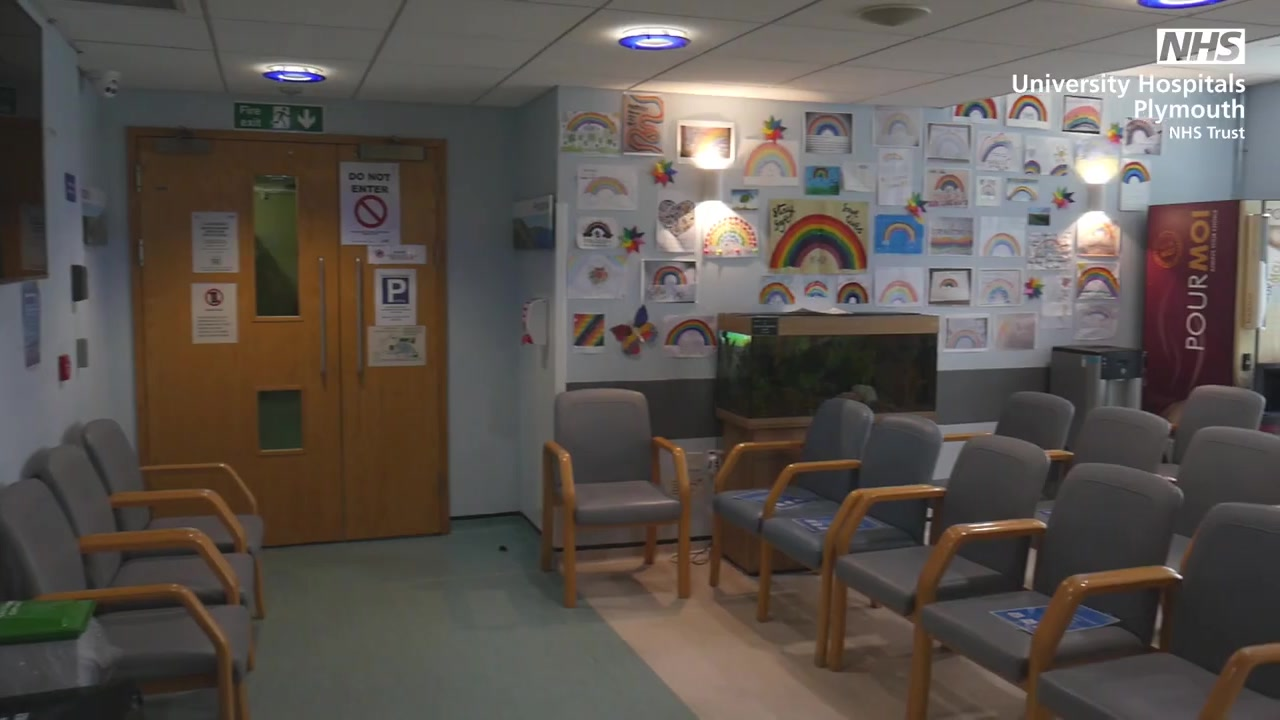chair: (905, 461, 1187, 720), (822, 432, 1052, 719), (1, 477, 258, 720), (1023, 498, 1280, 720), (757, 408, 942, 670), (24, 442, 257, 621), (61, 416, 266, 619), (707, 395, 875, 613), (539, 386, 691, 609), (1156, 424, 1280, 572), (943, 391, 1077, 501), (1040, 405, 1172, 506), (1160, 383, 1264, 476)
counter: (716, 312, 938, 455)
dispenser: (520, 296, 547, 346)
handle: (315, 253, 331, 377), (353, 254, 367, 374)
